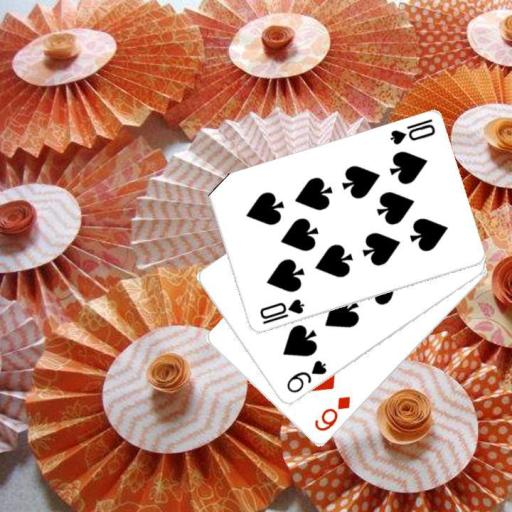10S: (386, 116, 437, 146), (256, 296, 306, 326)
6D: (311, 393, 352, 433)
9S: (283, 357, 329, 395)
